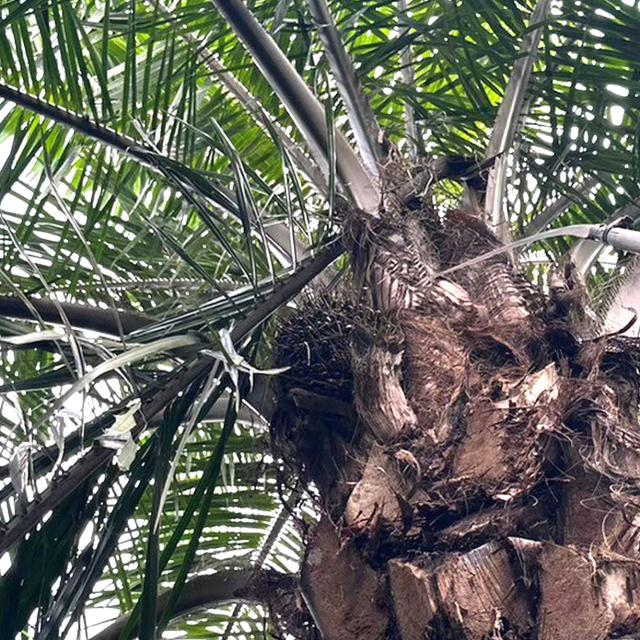unripe: (260, 274, 408, 412)
